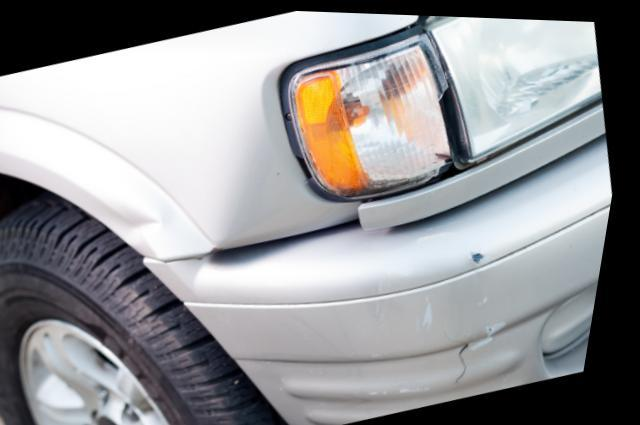crack: (452, 319, 481, 379)
dent: (108, 204, 165, 241)
lamp broken: (289, 34, 470, 195)
scratch: (476, 246, 517, 345), (377, 375, 459, 416), (428, 296, 446, 328)
